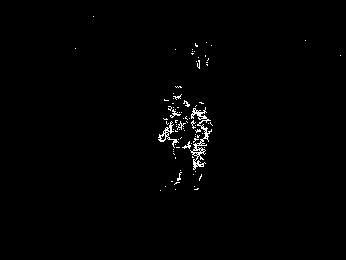person: (158, 85, 192, 187), (188, 101, 214, 197)
